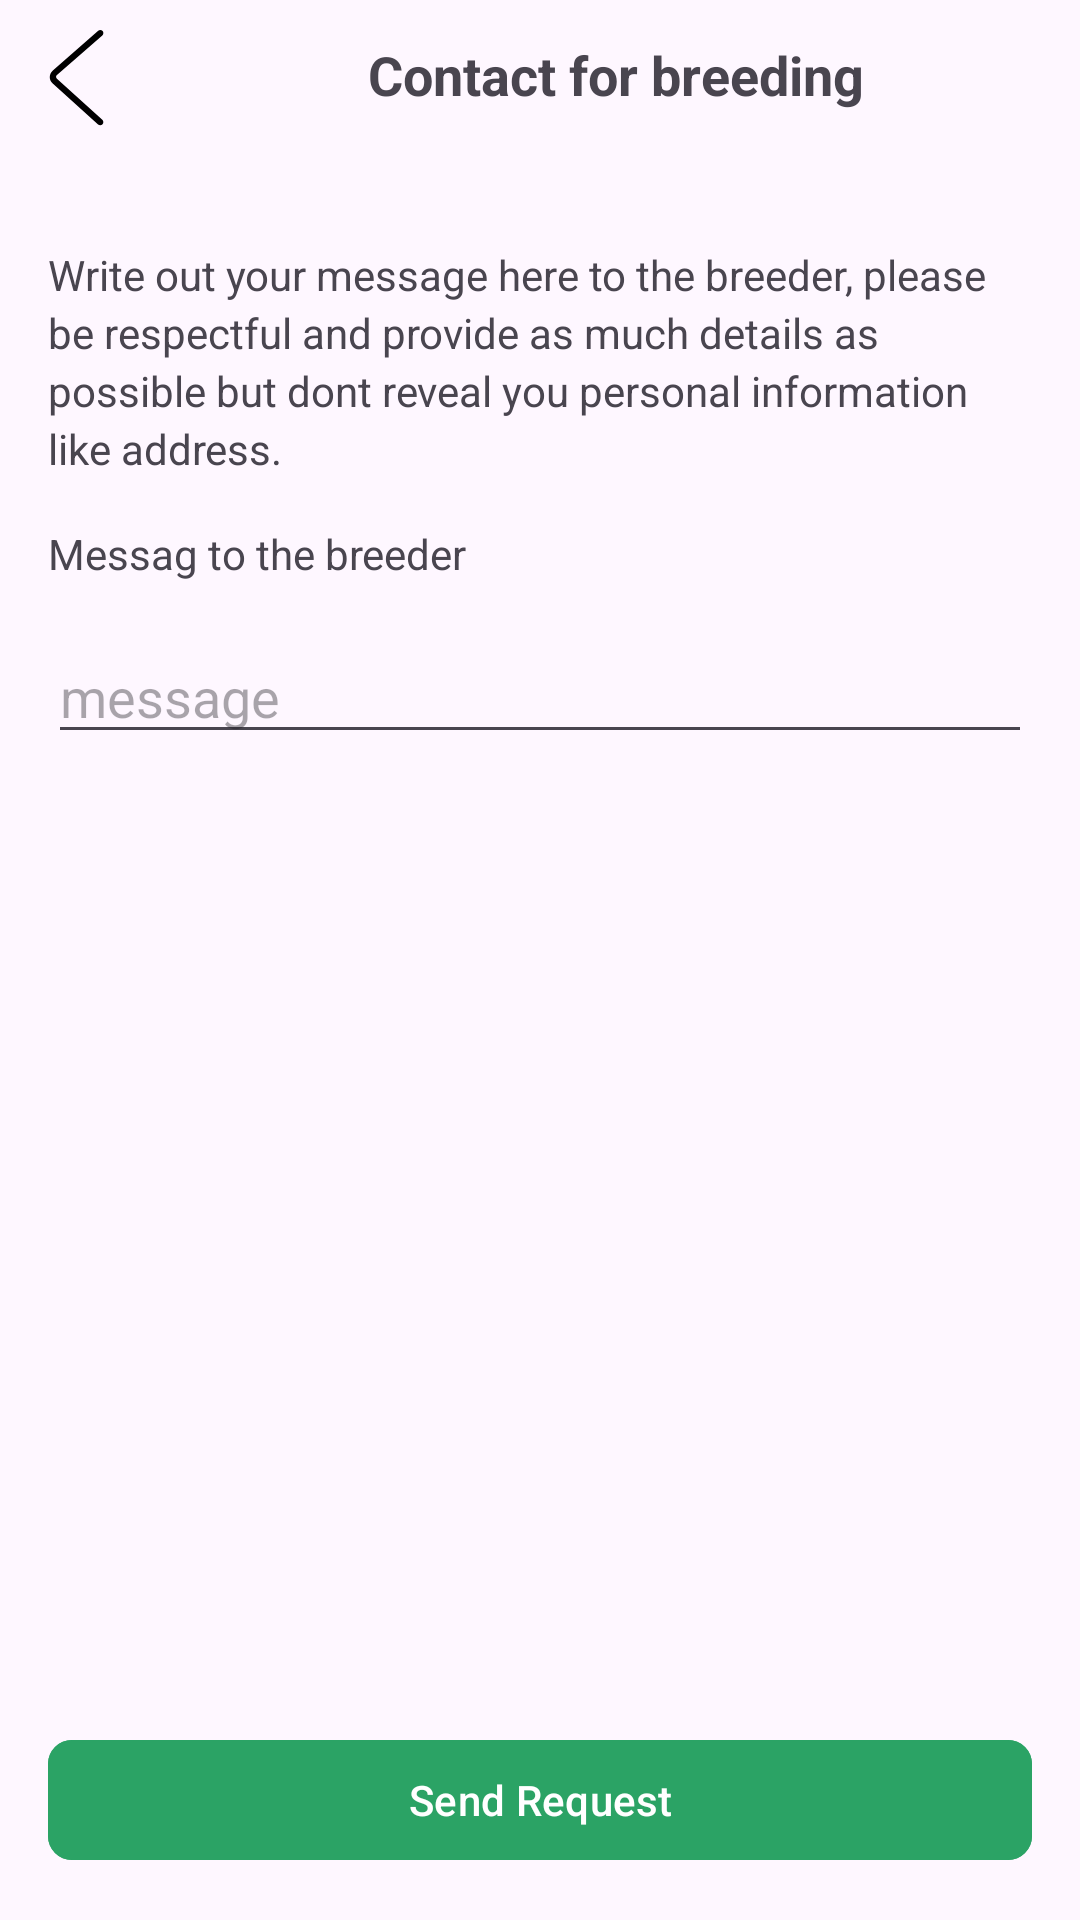

Named icons in this screenshot (1080x1920) and their bounding boxes, {"left": x1, "top": y1, "right": x2, "bottom": y2}:
back: {"left": 49, "top": 30, "right": 104, "bottom": 126}
